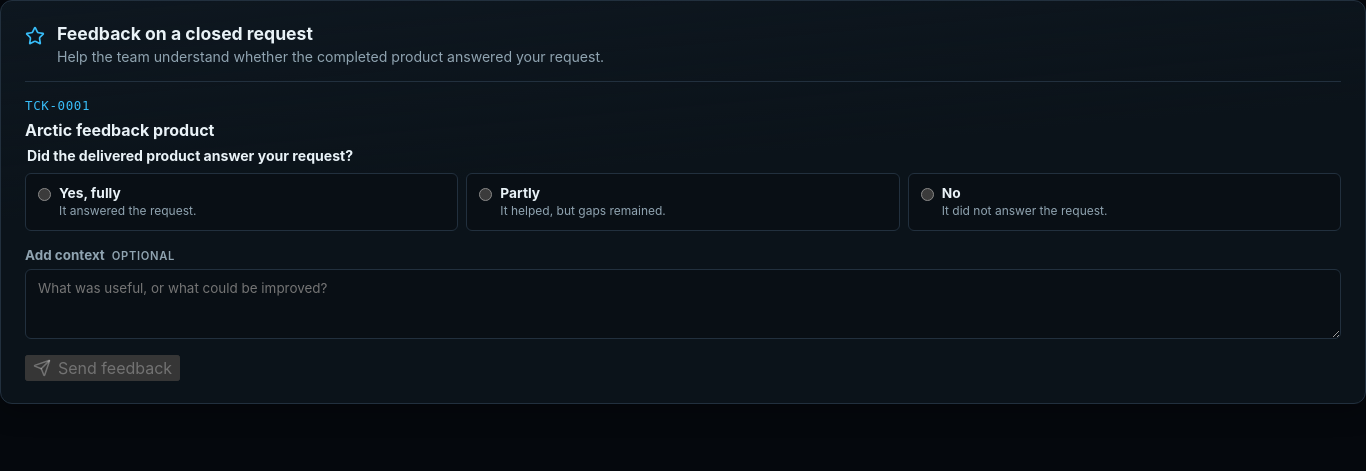
shows an inline error when feedback submission fails
The width and height of the screenshot is (1366, 471).
Expected: the text "Arctic feedback product" is shown, [25,120,214,140]
Click the radio button labelled "No It did not answer the request.": (927, 194) [921,188,934,201]
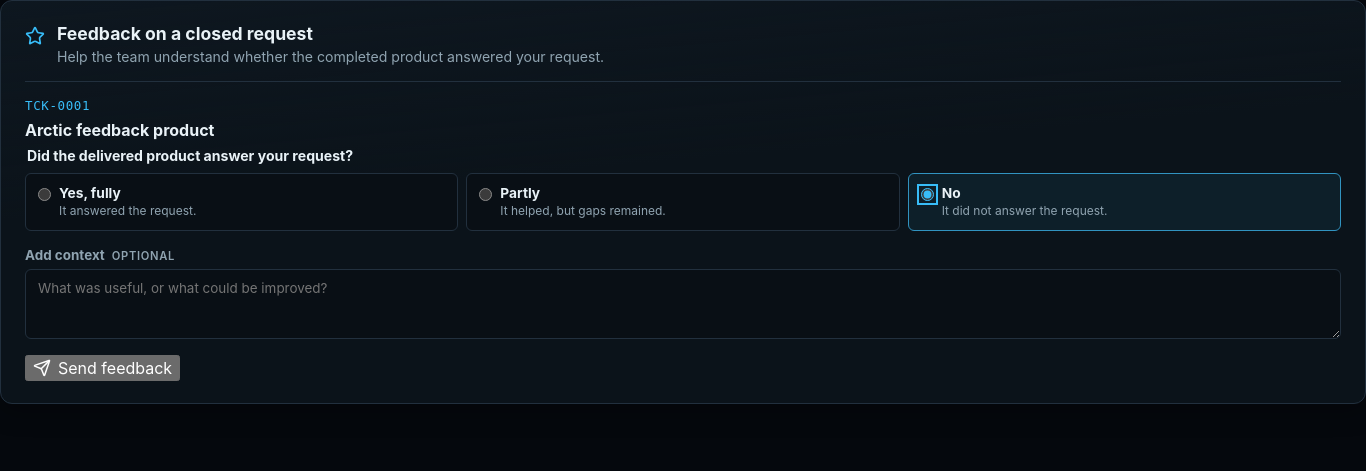
Click the button "Send feedback": (103, 368) [25,355,180,381]
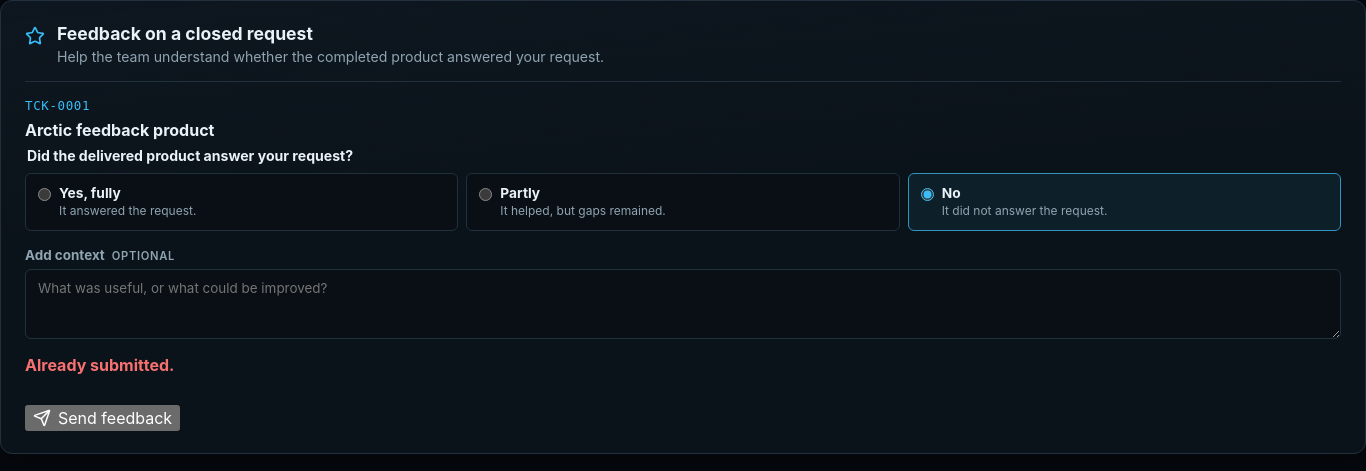
Result: the message reads "Already submitted." at [25,355,174,375]
